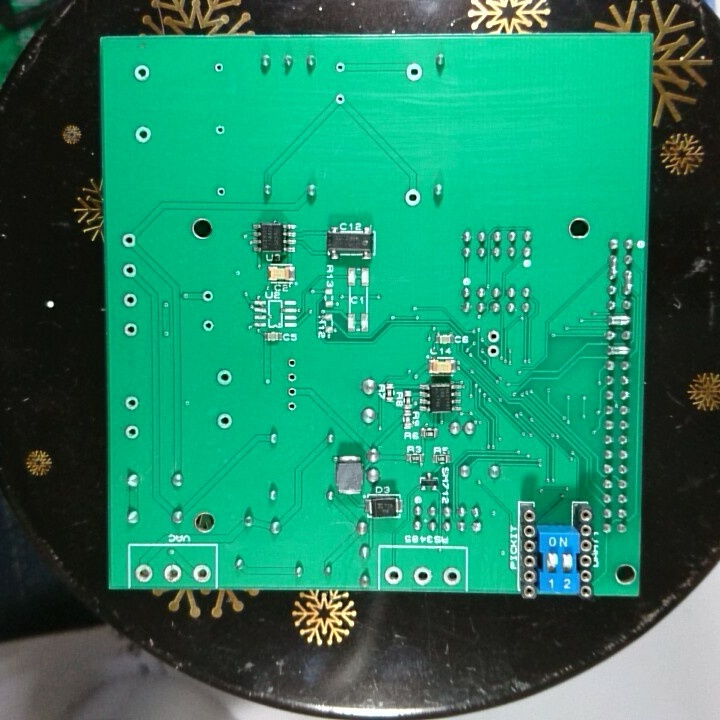F: (161, 559, 183, 585), (440, 566, 464, 588), (133, 561, 156, 583), (383, 563, 405, 586), (411, 564, 434, 586), (214, 410, 236, 432), (191, 562, 213, 584), (402, 186, 423, 209), (404, 61, 425, 84), (214, 366, 235, 388), (131, 62, 152, 83), (119, 259, 140, 280), (132, 124, 154, 144), (119, 229, 138, 251), (122, 392, 142, 412), (211, 122, 231, 140), (121, 320, 139, 340), (123, 422, 141, 442), (121, 290, 139, 309), (200, 316, 217, 335), (282, 384, 302, 400), (485, 327, 503, 344), (282, 399, 301, 415), (200, 286, 215, 306), (282, 370, 302, 384), (485, 344, 502, 360), (332, 58, 348, 75), (332, 90, 348, 107), (211, 60, 227, 77), (283, 356, 301, 370), (214, 183, 228, 200)
P: (605, 342, 634, 359), (606, 252, 621, 282), (605, 312, 633, 328), (621, 266, 635, 298)
